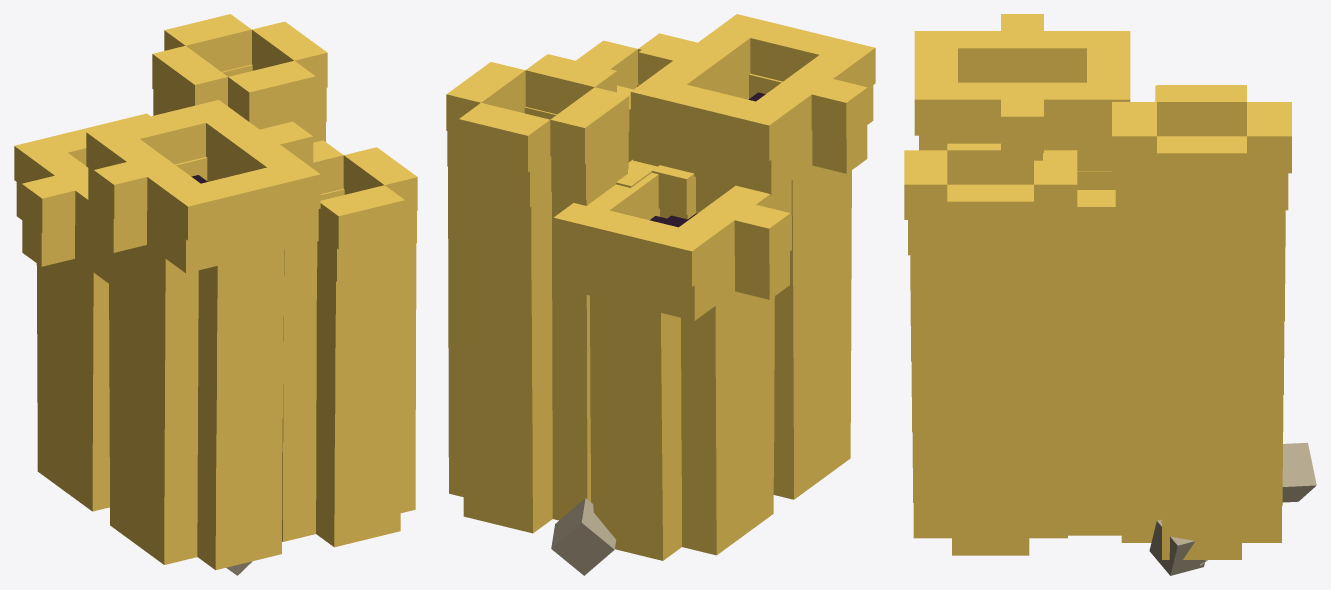
The model's file is CORAL_Tube.glb.
The picture shows the model from 3 angles, left to right: view 1: azimuth 30°, elevation 25°; view 2: azimuth 150°, elevation 25°; view 3: azimuth 270°, elevation 25°; orthographic projection. The views are drawn at different scales.
Visible parts, largest first — view 1: CORAL_Tube_Main; view 2: CORAL_Tube_Main, CORAL_Tube_Rock; view 3: CORAL_Tube_Main, CORAL_Tube_Rock.
Boxes of the visible parts, <box> form: CORAL_Tube_Main: <box>14,14,417,570</box>; CORAL_Tube_Main: <box>446,14,875,560</box>; CORAL_Tube_Rock: <box>551,498,616,575</box>; CORAL_Tube_Main: <box>904,14,1291,559</box>; CORAL_Tube_Rock: <box>1149,442,1316,575</box>.
Size of the model in its own units: 1.07 by 1.4 by 1.22.
